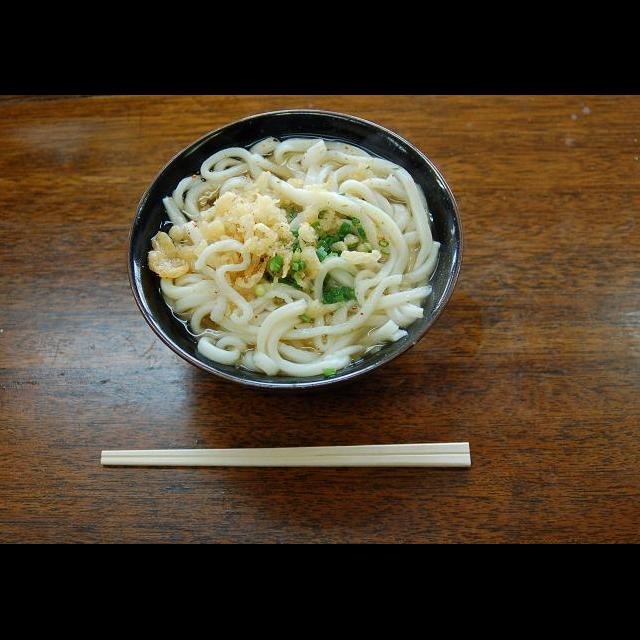noodles: (146, 130, 440, 378)
